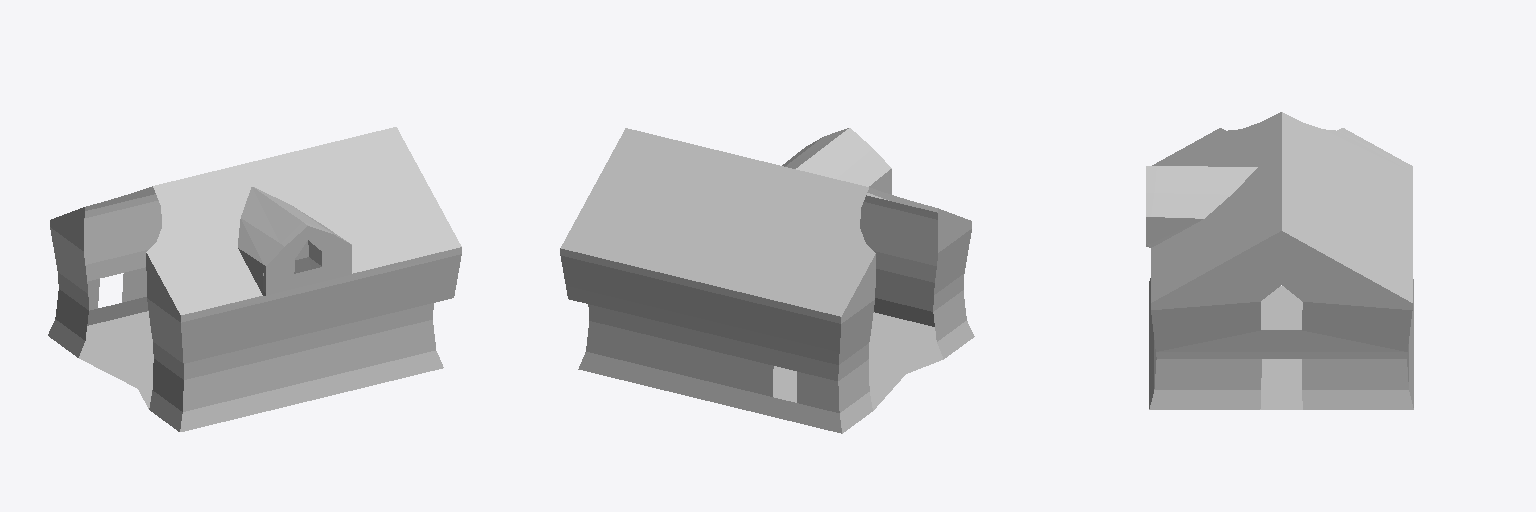
The model's file is houseinside.obj.
3 views of the same model, side by side, from view 1: azimuth 30°, elevation 25°; view 2: azimuth 150°, elevation 25°; view 3: azimuth 270°, elevation 25° (orthographic).
Parts seen in each view (by area): view 1: inside_house house_inside; view 2: inside_house house_inside; view 3: inside_house house_inside.
Part boxes in pixels (left/top/right/bottom): inside_house house_inside: left=48, top=127, right=461, bottom=431; inside_house house_inside: left=560, top=128, right=974, bottom=433; inside_house house_inside: left=1146, top=112, right=1413, bottom=409.
Bounding box in the file's own units: 18.02 × 11.48 × 14.81.